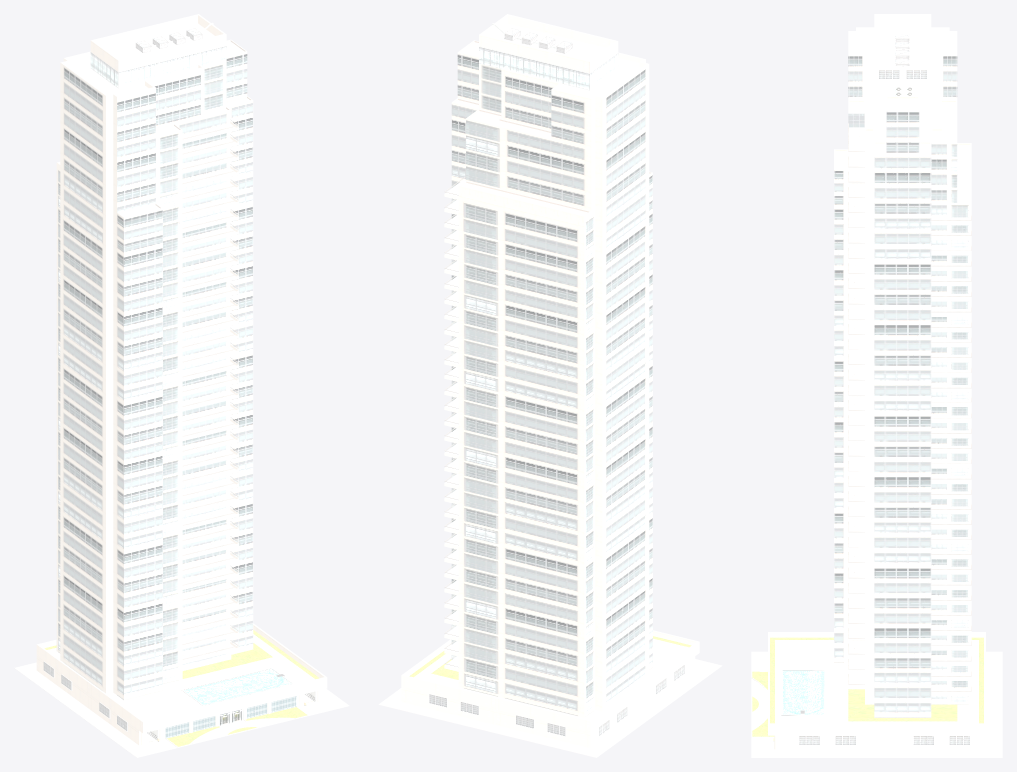
File: hirise2.FBX
The picture shows the model from 3 angles, left to right: view 1: azimuth 30°, elevation 25°; view 2: azimuth 150°, elevation 25°; view 3: azimuth 270°, elevation 25°; orthographic projection. The views are drawn at different scales.
Parts seen in each view (by area): view 1: hirise2; view 2: hirise2; view 3: hirise2.
Part boxes in pixels (x1=…): hirise2: x1=14, y1=14, x2=349, y2=757; hirise2: x1=378, y1=14, x2=722, y2=757; hirise2: x1=751, y1=14, x2=1002, y2=757.
Size of the model in its own units: 5580 by 16135 by 5580.
1 material, 1 textured.
